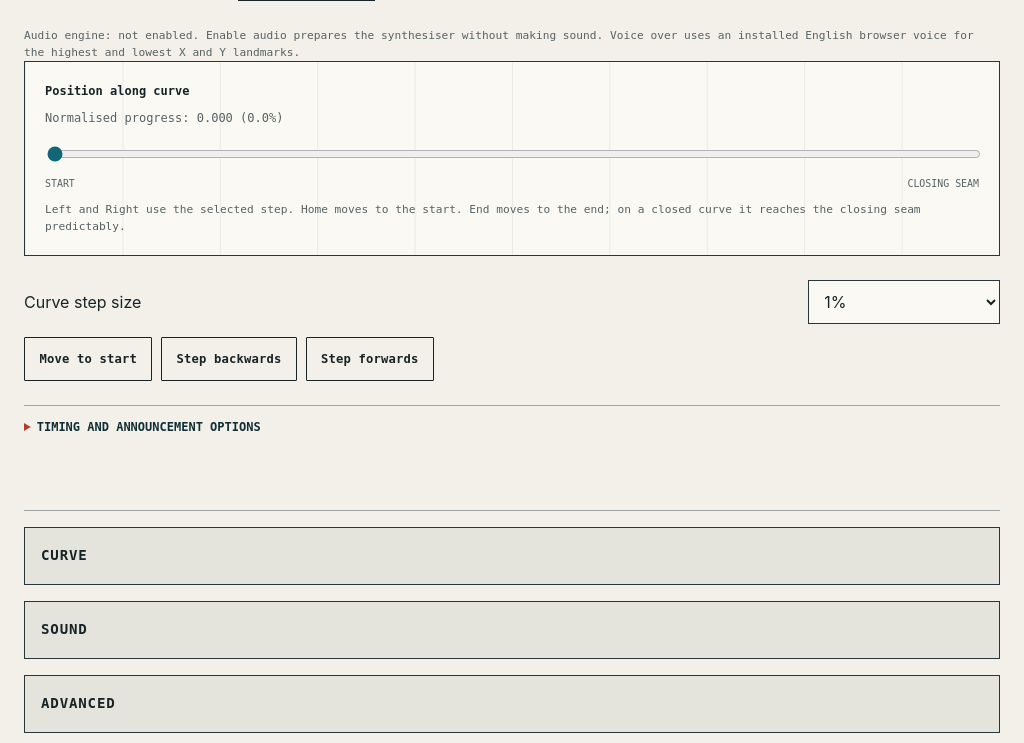
it: TIMUDS workspace › updates visible coordinate and pitch data after a manual move
The image size is (1024, 743).
(page scrolled)
Step 1. Click the button "Step forwards" → {"x": 370, "y": 359}, box [306,337,434,381]
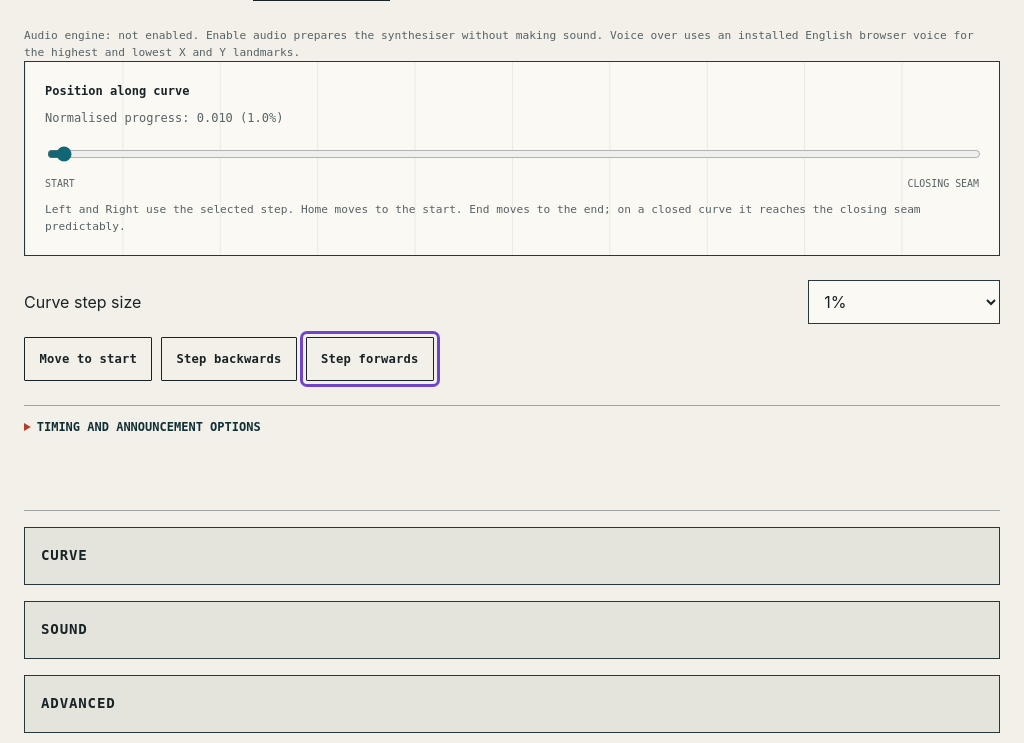
Expected: the text "Normalised progress: 0.010 (1.0%)" is shown, [45,111,283,125]
